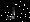person: (9, 8, 15, 20)
